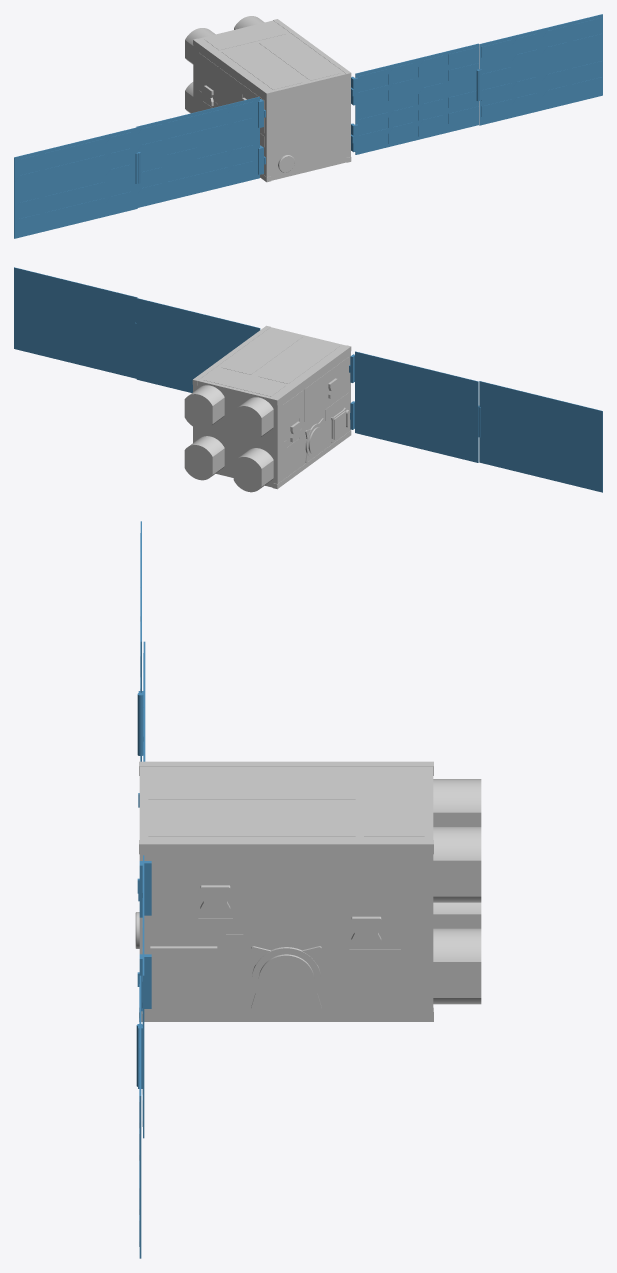
The picture shows the model from 3 angles, top to bottom: view 1: azimuth 30°, elevation 25°; view 2: azimuth 150°, elevation 25°; view 3: azimuth 270°, elevation 25°; orthographic projection. The views are drawn at different scales.
Visible parts, largest first — view 1: Part1 (×3); view 2: Part1 (×3); view 3: Part1 (×3).
Part boxes in pixels (<box>): Part1 (×3): <box>14,14,602,238</box>; Part1 (×3): <box>14,267,602,492</box>; Part1 (×3): <box>135,521,481,1258</box>.
Size of the model in its own units: 1.58 by 0.2325 by 0.401.
